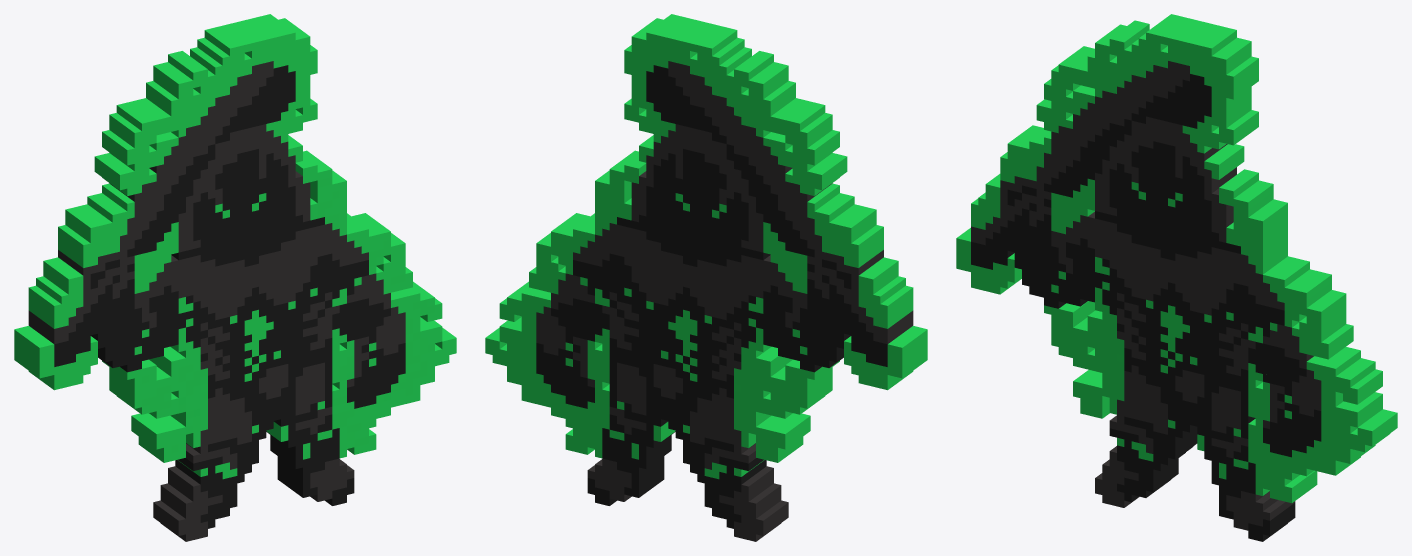
File: nigromancer.obj
3 renders of one model, left to right at view 1: azimuth 30°, elevation 25°; view 2: azimuth 150°, elevation 25°; view 3: azimuth 330°, elevation 25°, orthographic.
Size of the model in its own units: 114 by 126 by 12.
